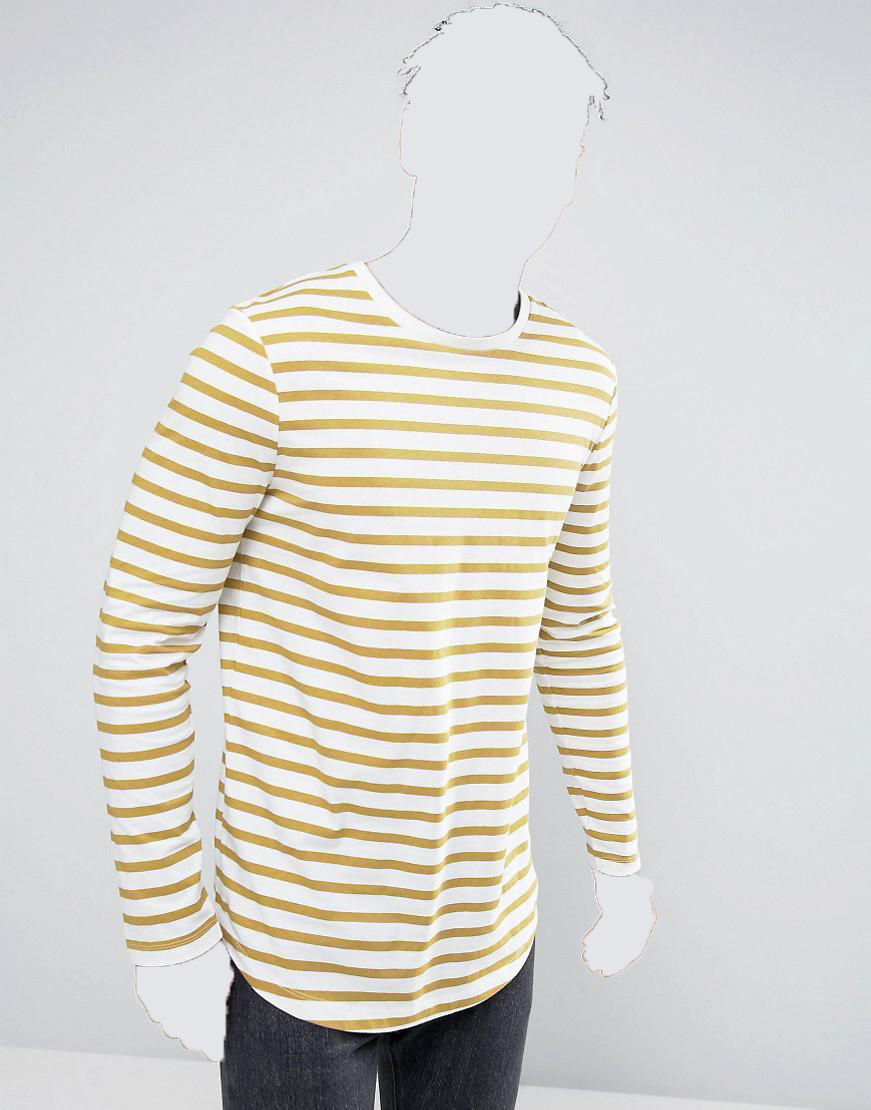teeshirt: (76, 261, 659, 1032)
